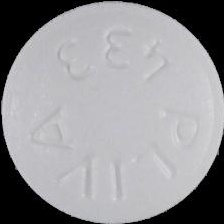21695-133: (0, 0, 224, 224)
